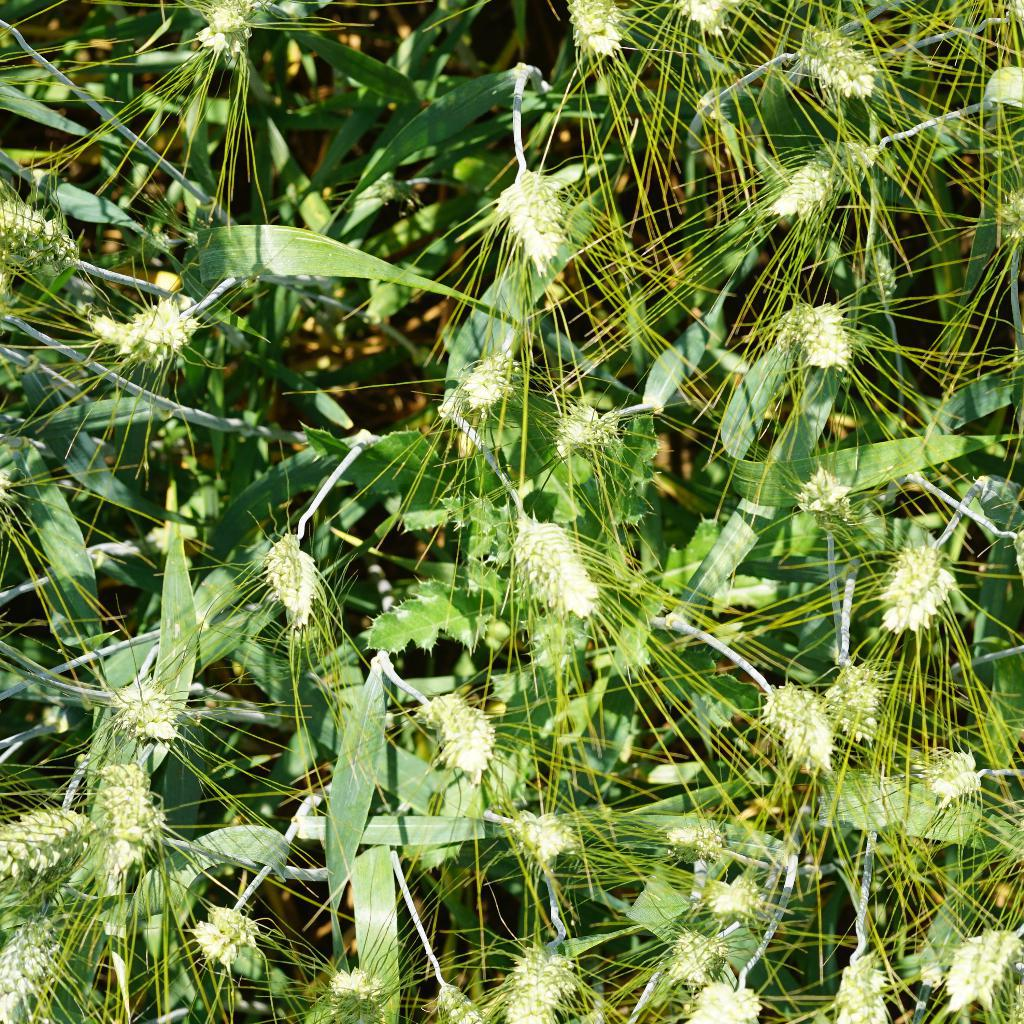0-0: (870, 534, 963, 660), (755, 131, 886, 219), (499, 503, 595, 620), (488, 166, 586, 280), (86, 761, 174, 885), (0, 898, 77, 1024), (747, 675, 841, 770), (242, 534, 329, 635), (937, 908, 1021, 1012), (776, 18, 881, 94), (484, 935, 571, 1024), (0, 203, 105, 273), (782, 456, 862, 543), (915, 736, 991, 825), (97, 298, 202, 362), (426, 692, 504, 778), (0, 797, 97, 866), (179, 901, 268, 976), (828, 938, 899, 1024), (546, 395, 641, 458), (178, 0, 266, 68), (119, 679, 193, 759), (780, 296, 851, 374), (508, 803, 587, 873), (832, 658, 890, 752), (684, 967, 777, 1024), (318, 956, 392, 1024), (550, 0, 634, 59), (650, 915, 718, 987), (662, 813, 736, 878), (467, 336, 523, 417), (423, 980, 515, 1024), (695, 874, 770, 926), (859, 240, 904, 307)
